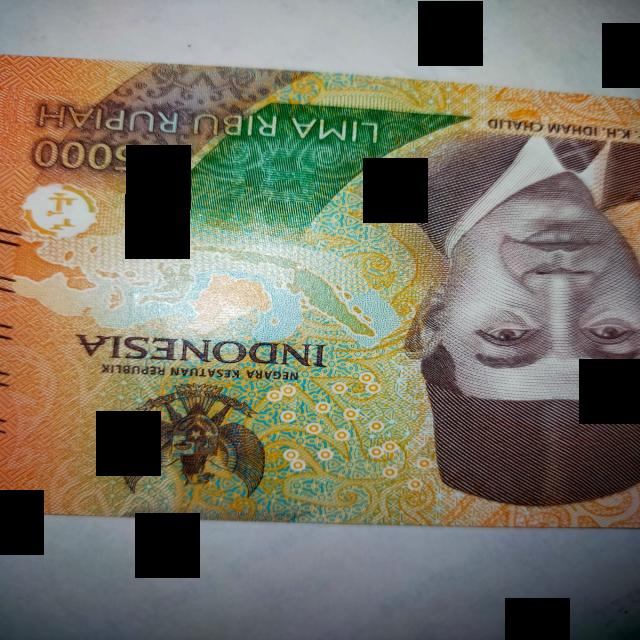lima ribu rupiah: (0, 56, 638, 526)
